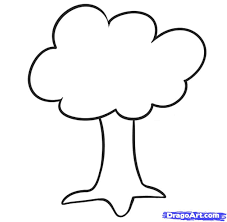tree: (26, 1, 210, 205)
